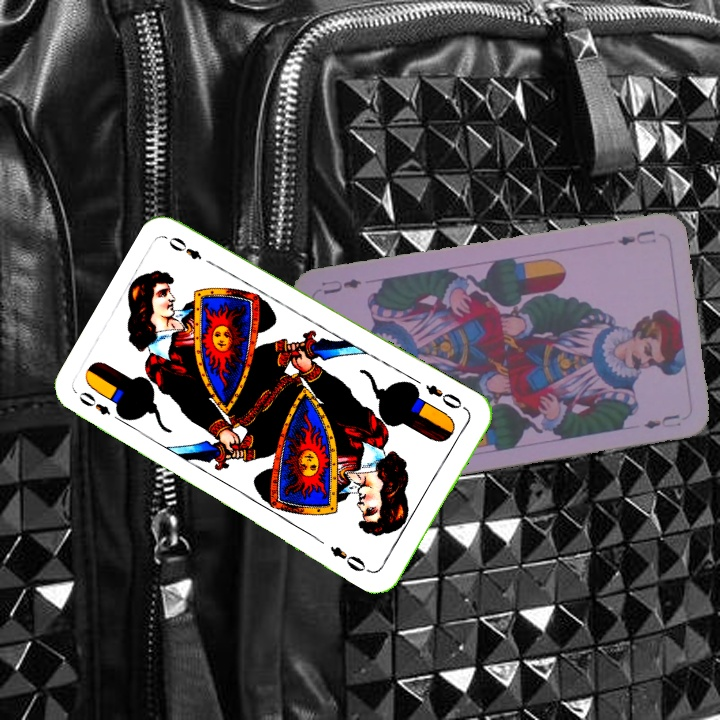EO: (421, 380, 465, 412), (74, 387, 113, 418)
EU: (614, 226, 659, 248)
